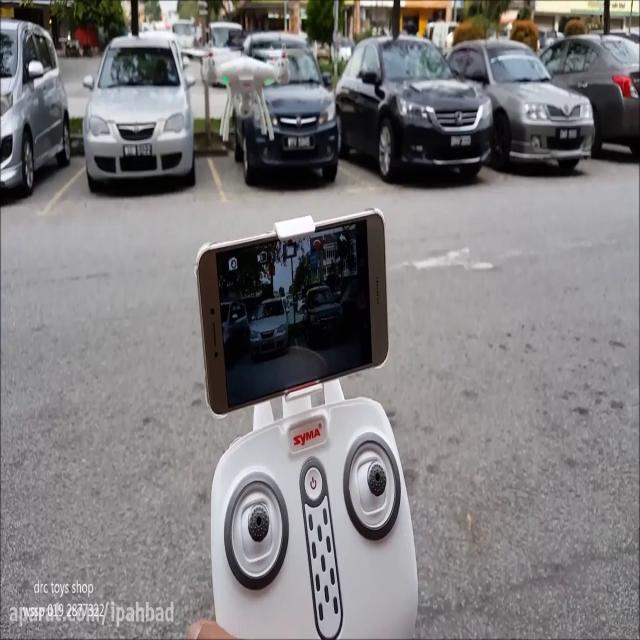drone: (185, 40, 305, 140)
